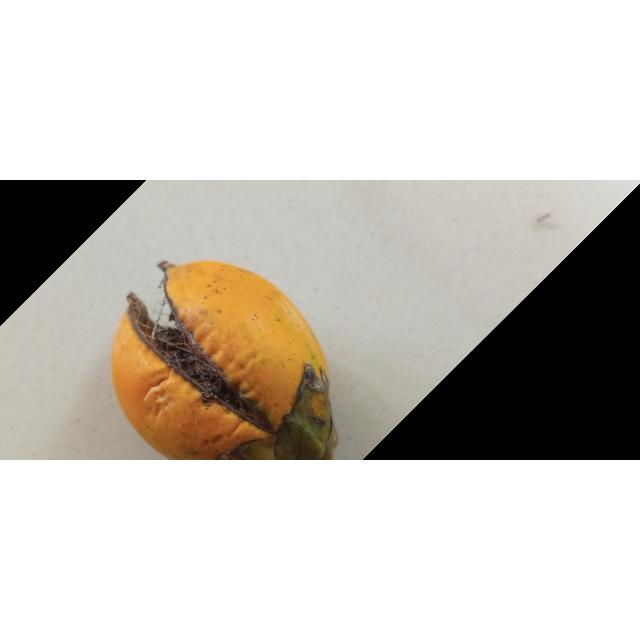damaged: (112, 261, 338, 461)
